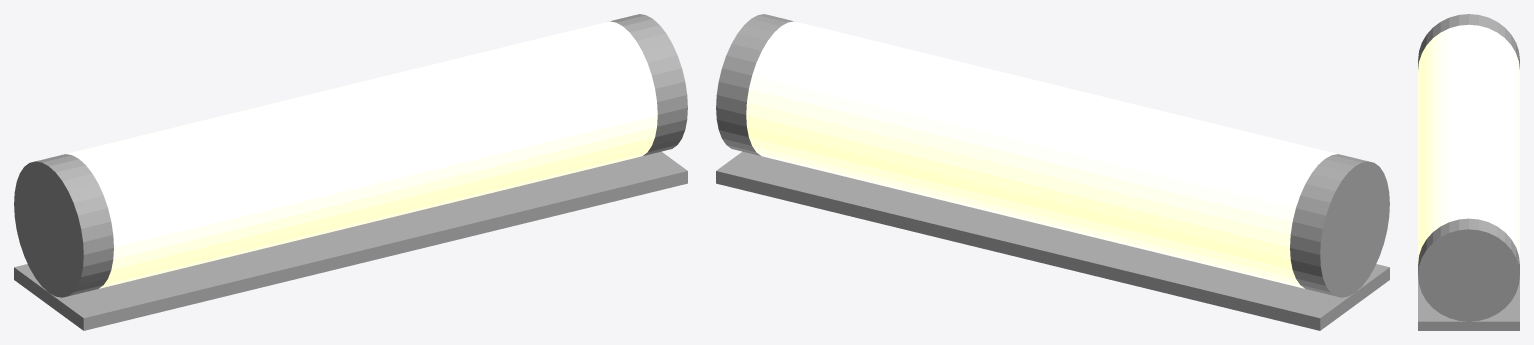
The model's file is lampe_comb.glb.
3 renders of one model, left to right at view 1: azimuth 30°, elevation 25°; view 2: azimuth 150°, elevation 25°; view 3: azimuth 270°, elevation 25°, orthographic. The views are drawn at different scales.
Visible parts, largest first — view 1: Cube; view 2: Cube; view 3: Cube.
Part boxes in pixels (<box>): Cube: <box>14,14,687,330</box>; Cube: <box>716,14,1389,330</box>; Cube: <box>1418,14,1519,330</box>.
Bounding box in the file's own units: 5 × 1.1 × 1.
